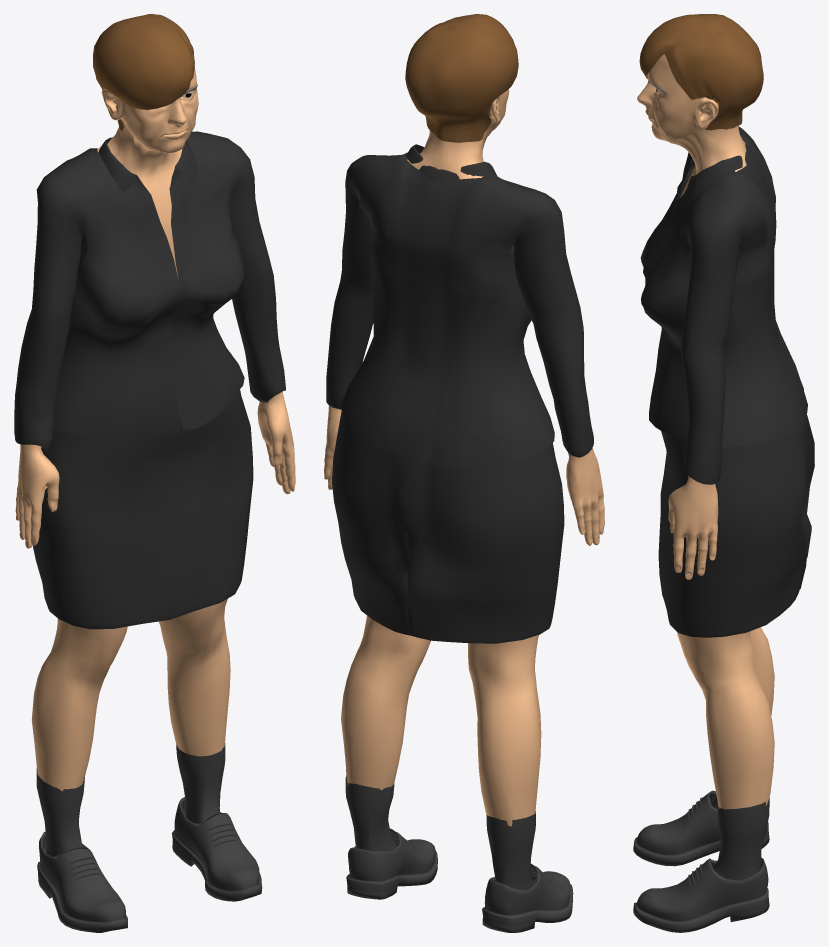
File: sandra_2.glb
3 views of the same model, side by side, from view 1: azimuth 30°, elevation 25°; view 2: azimuth 150°, elevation 25°; view 3: azimuth 270°, elevation 25° (orthographic).
Visible parts, largest first — view 1: female_elegantsuit01Mesh, oldladuyMesh, shoes03Mesh, short03Mesh; view 2: female_elegantsuit01Mesh, oldladuyMesh, shoes03Mesh, short03Mesh; view 3: female_elegantsuit01Mesh, oldladuyMesh, shoes03Mesh, short03Mesh.
Part boxes in pixels (x1=…): female_elegantsuit01Mesh: x1=14, y1=131, x2=285, y2=629; oldladuyMesh: x1=15, y1=55, x2=295, y2=791; shoes03Mesh: x1=36, y1=743, x2=262, y2=932; short03Mesh: x1=93, y1=14, x2=194, y2=131; female_elegantsuit01Mesh: x1=326, y1=144, x2=593, y2=643; oldladuyMesh: x1=324, y1=89, x2=604, y2=826; shoes03Mesh: x1=345, y1=775, x2=573, y2=932; short03Mesh: x1=405, y1=14, x2=518, y2=142; female_elegantsuit01Mesh: x1=640, y1=126, x2=814, y2=637; oldladuyMesh: x1=637, y1=54, x2=774, y2=809; shoes03Mesh: x1=633, y1=790, x2=769, y2=932; short03Mesh: x1=639, y1=14, x2=763, y2=130.
Size of the model in its own units: 0.5819 by 1.84 by 0.349.
